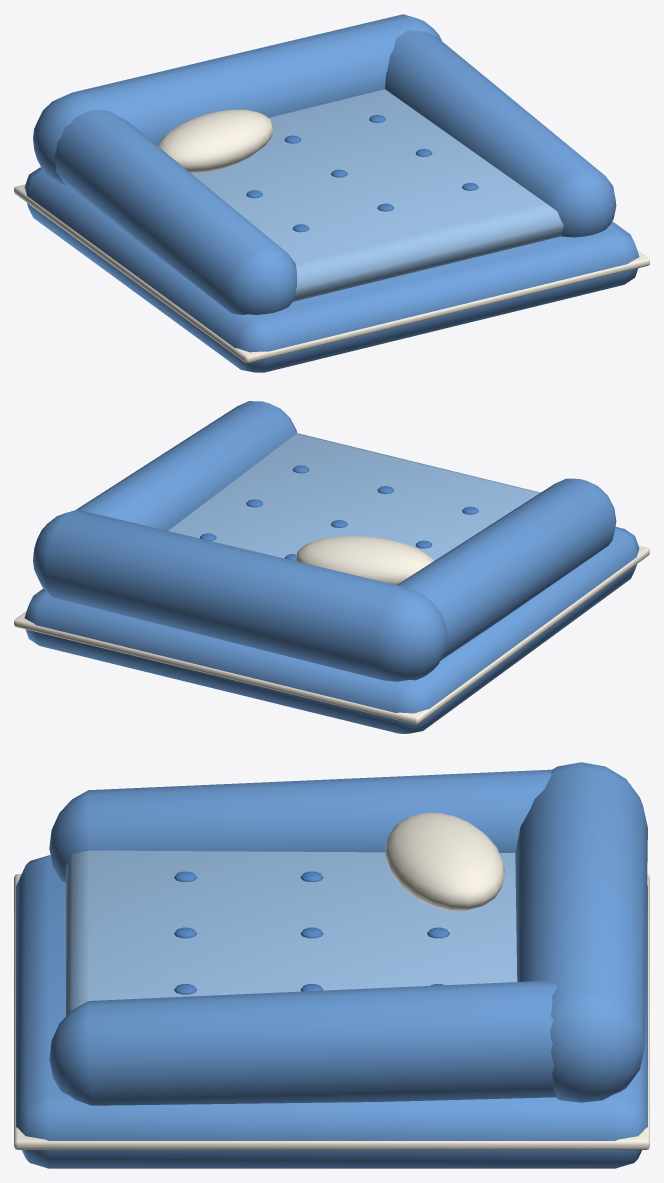
File: cushion-bed.glb
3 renders of one model, top to bottom at view 1: azimuth 30°, elevation 25°; view 2: azimuth 150°, elevation 25°; view 3: azimuth 270°, elevation 25°, orthographic. The views are drawn at different scales.
Parts seen in each view (by area): view 1: bed; view 2: bed; view 3: bed.
Boxes of the visible parts, bbox=[...] form: bed: bbox=[14, 14, 649, 372]; bed: bbox=[14, 401, 649, 733]; bed: bbox=[14, 762, 649, 1168].
Size of the model in its own units: 1.91 by 0.58 by 1.91.
